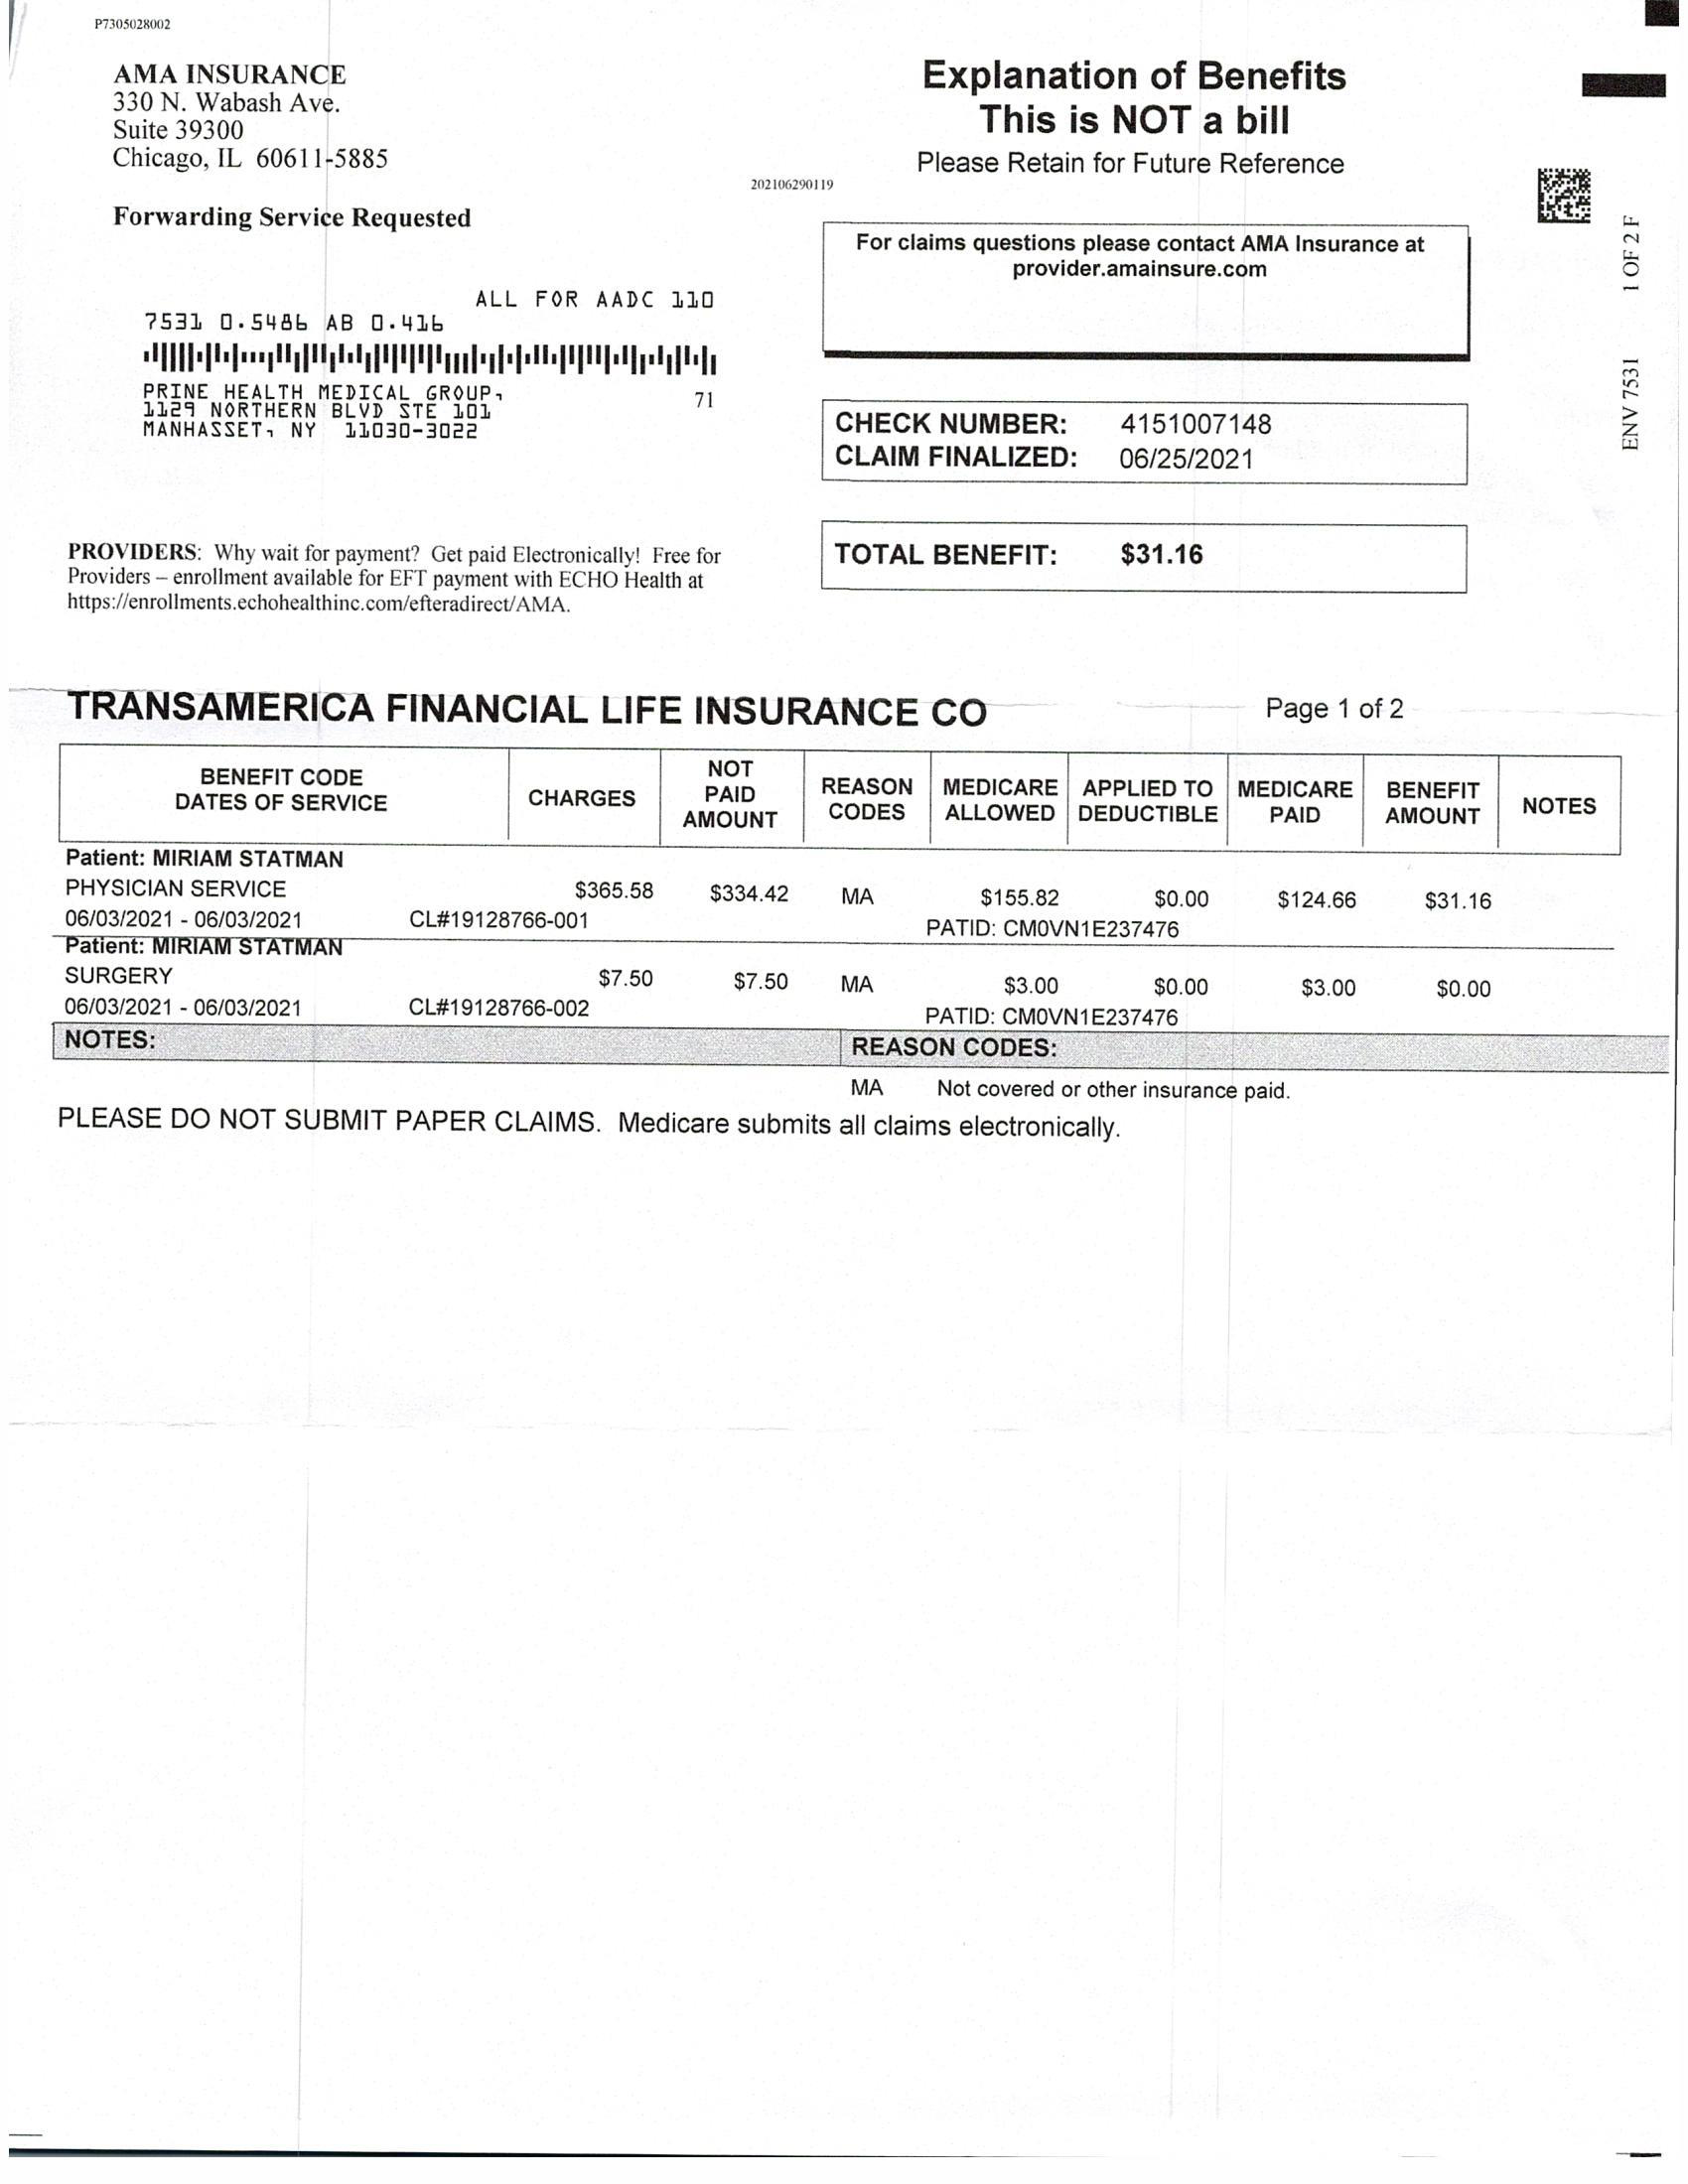data: (812, 378, 1482, 496), (819, 511, 1479, 606)
table: (51, 732, 1633, 1023)
